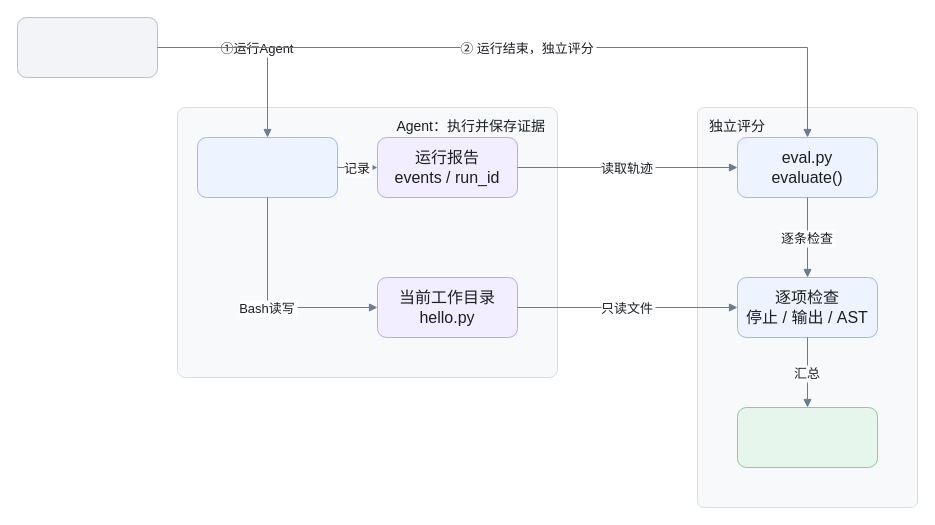
Image size: 935x525. Some labels were removed from this diagram. The shapes that lost their labels are listed below. From the top down, each one's centre as x and y in pixels, then its label:
At [87,47]: "任务与评分入口 run / grade".
At [267,167]: "code.py agent_loop()".
At [807,437]: "任务判断 passed / checks".
